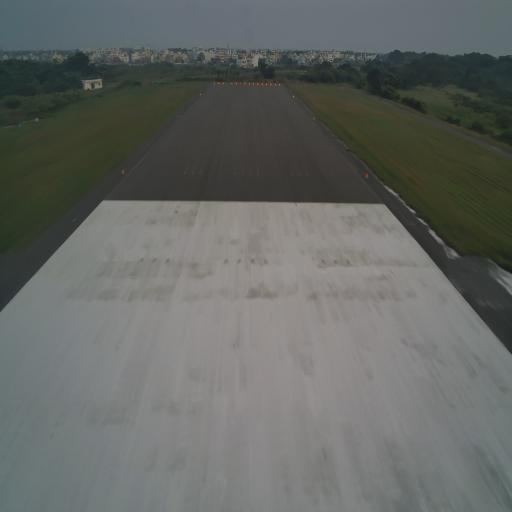on: (121, 168, 126, 175), (365, 172, 369, 179)
